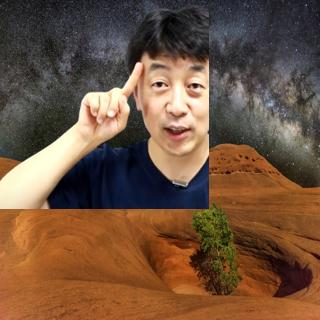IRRITATED: (71, 58, 145, 147)
